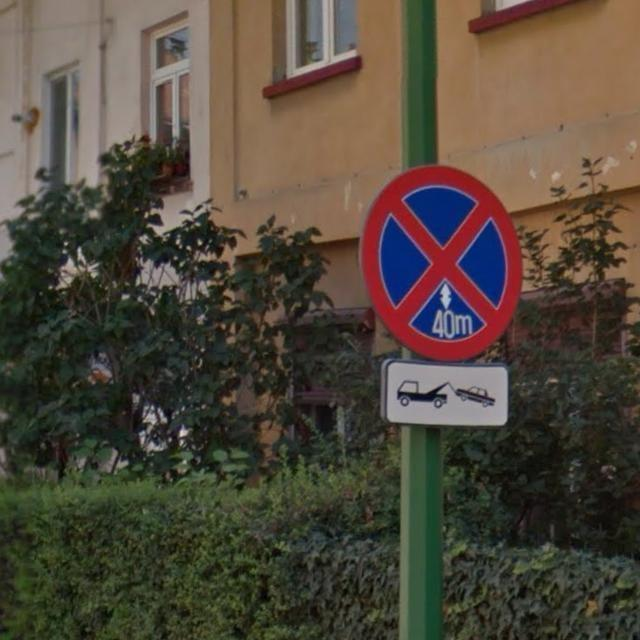forb_waiting: (359, 165, 522, 361)
